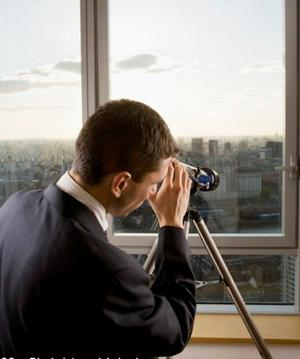person: (1, 100, 197, 359)
